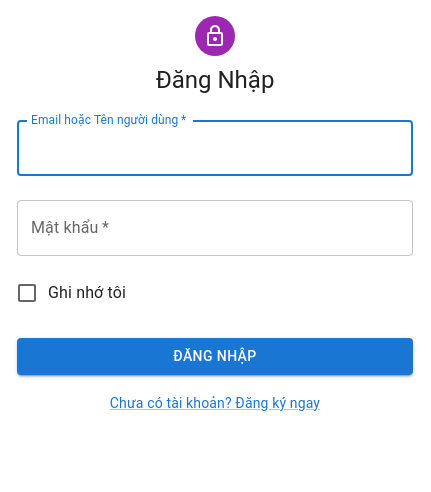
Test: LoginPage Component › shows error Alert on context login failure
In the field labelled "Email hoặc Tên người dùng *": (215, 148) [17,120,413,176], type "wrong@example.com"
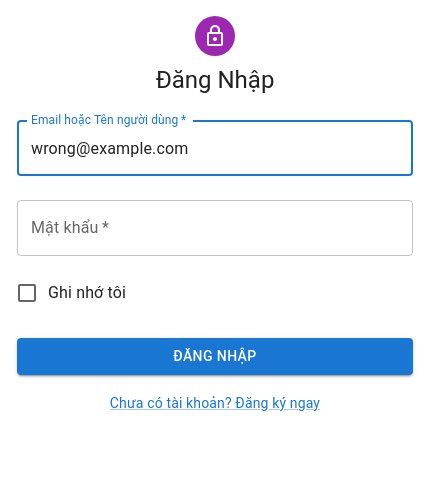
In the password field labelled "Mật khẩu *": (215, 228) [17,200,413,256], type "wrongpassword"
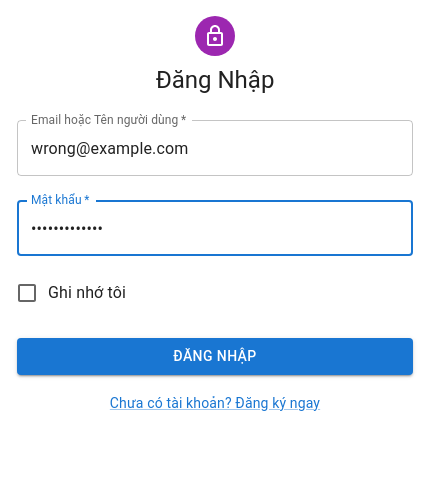
Click the button "Đăng Nhập": (215, 356) [17,338,413,374]
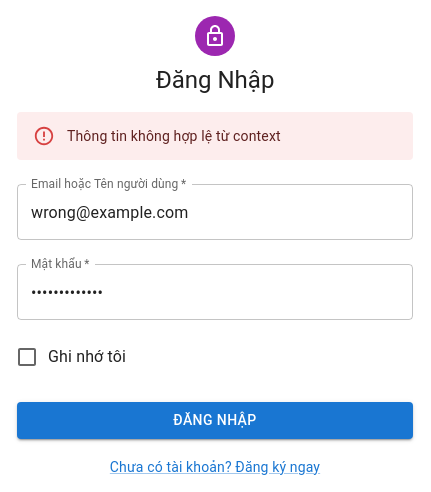
Check: the message reads "Thông tin không hợp lệ từ context", box [67,128,281,144]
